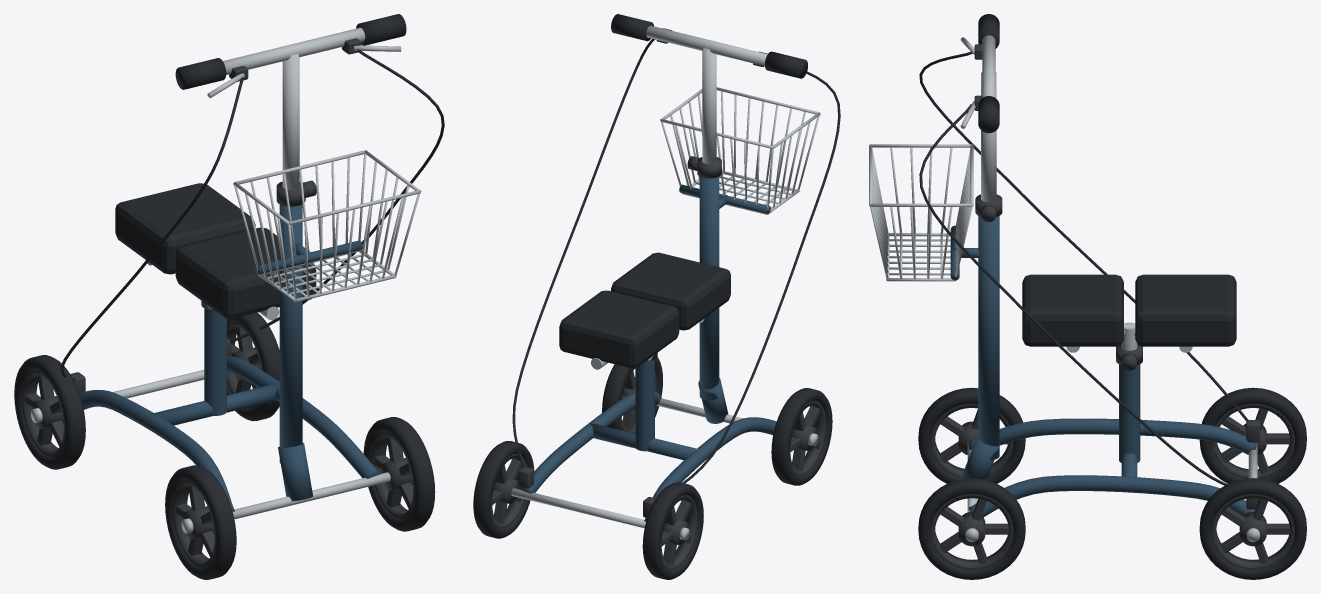
File: full.glb
3 views of the same model, side by side, from view 1: azimuth 30°, elevation 25°; view 2: azimuth 150°, elevation 25°; view 3: azimuth 270°, elevation 25° (orthographic). The views are drawn at different scales.
Parts seen in each view (by area): view 1: Front thick rounded knee pad, Rear thick rounded knee pad, Outer steering column, Front Left tire, Rear Left tire, Front Right tire, Left curved chassis rail, Right curved chassis rail, Telescopic steering stem, Outer pad support column, Rear Right tire, T handlebar (+17 smaller); view 2: Rear thick rounded knee pad, Front thick rounded knee pad, Outer steering column, Front Left tire, Rear Left tire, Rear Right tire, Right curved chassis rail, Left curved chassis rail, Telescopic steering stem, Outer pad support column, T handlebar, Left continuous brake cable (+12 smaller); view 3: Rear thick rounded knee pad, Front thick rounded knee pad, Outer steering column, Front Right tire, Rear Right tire, Left curved chassis rail, Right curved chassis rail, Rear Left tire, Front Left tire, Outer pad support column, Right continuous brake cable, Front Right wheel rim (+10 smaller).
Part boxes in pixels (x1,y1,x2,y2): Front thick rounded knee pad: (175,227,316,318); Rear thick rounded knee pad: (115,183,255,274); Outer steering column: (279,204,302,463); Front Left tire: (165,465,236,579); Rear Left tire: (14,355,85,469); Front Right tire: (363,417,435,531); Left curved chassis rail: (79,390,234,511); Right curved chassis rail: (227,356,379,478); Telescopic steering stem: (282,54,299,189); Outer pad support column: (204,308,226,415); Rear Right tire: (227,312,279,421); T handlebar: (223,27,365,74); Rear thick rounded knee pad: (559,290,679,368); Front thick rounded knee pad: (611,252,730,330); Outer steering column: (699,176,719,400); Front Left tire: (771,388,832,485); Rear Left tire: (642,482,703,579); Rear Right tire: (473,441,534,538); Right curved chassis rail: (520,391,661,493); Left curved chassis rail: (644,417,776,521); Telescopic steering stem: (702,48,716,164); Outer pad support column: (635,359,654,451); T handlebar: (646,25,767,65); Left continuous brake cable: (682,71,840,483); Rear thick rounded knee pad: (1135,274,1236,346); Front thick rounded knee pad: (1022,274,1123,346); Outer steering column: (978,216,999,460); Front Right tire: (918,478,1025,579); Rear Right tire: (1199,478,1306,579); Left curved chassis rail: (968,418,1256,454); Right curved chassis rail: (968,475,1255,517); Rear Left tire: (1199,387,1306,483); Front Left tire: (918,387,1025,483); Outer pad support column: (1119,364,1140,462); Right continuous brake cable: (919,104,1228,486); Front Right wheel rim: (930,494,1013,569).
Size of the model in its own units: 0.4889 by 0.919 by 0.7783.
